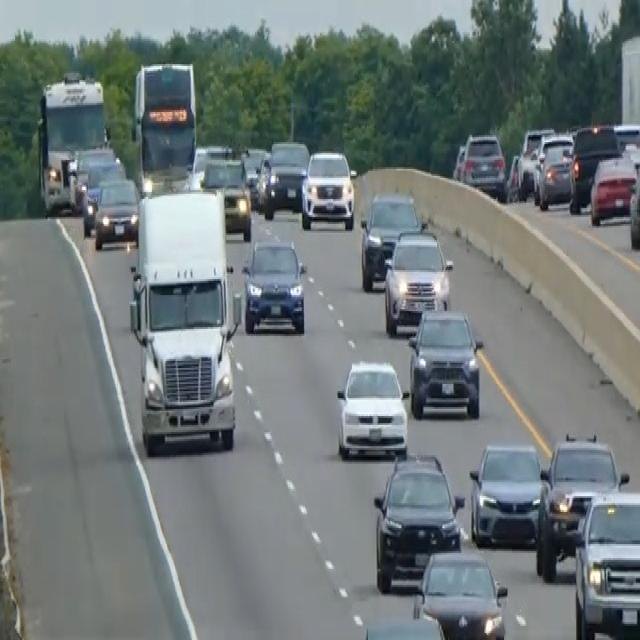bus: (35, 68, 109, 215), (131, 59, 198, 192)
car: (536, 430, 629, 580), (372, 450, 464, 592), (573, 487, 639, 638), (407, 304, 483, 420), (413, 548, 508, 638), (468, 439, 545, 549), (382, 228, 453, 336), (335, 357, 408, 459), (241, 235, 307, 334), (359, 190, 422, 290), (568, 122, 621, 212), (300, 148, 355, 231), (199, 155, 251, 240), (354, 599, 453, 638), (261, 138, 309, 218), (81, 154, 126, 234), (589, 153, 638, 226), (93, 174, 139, 249), (68, 142, 115, 212), (532, 132, 574, 210), (460, 130, 506, 197), (516, 126, 554, 199), (241, 144, 269, 208), (628, 155, 639, 249)
lorry: (128, 185, 241, 457)
